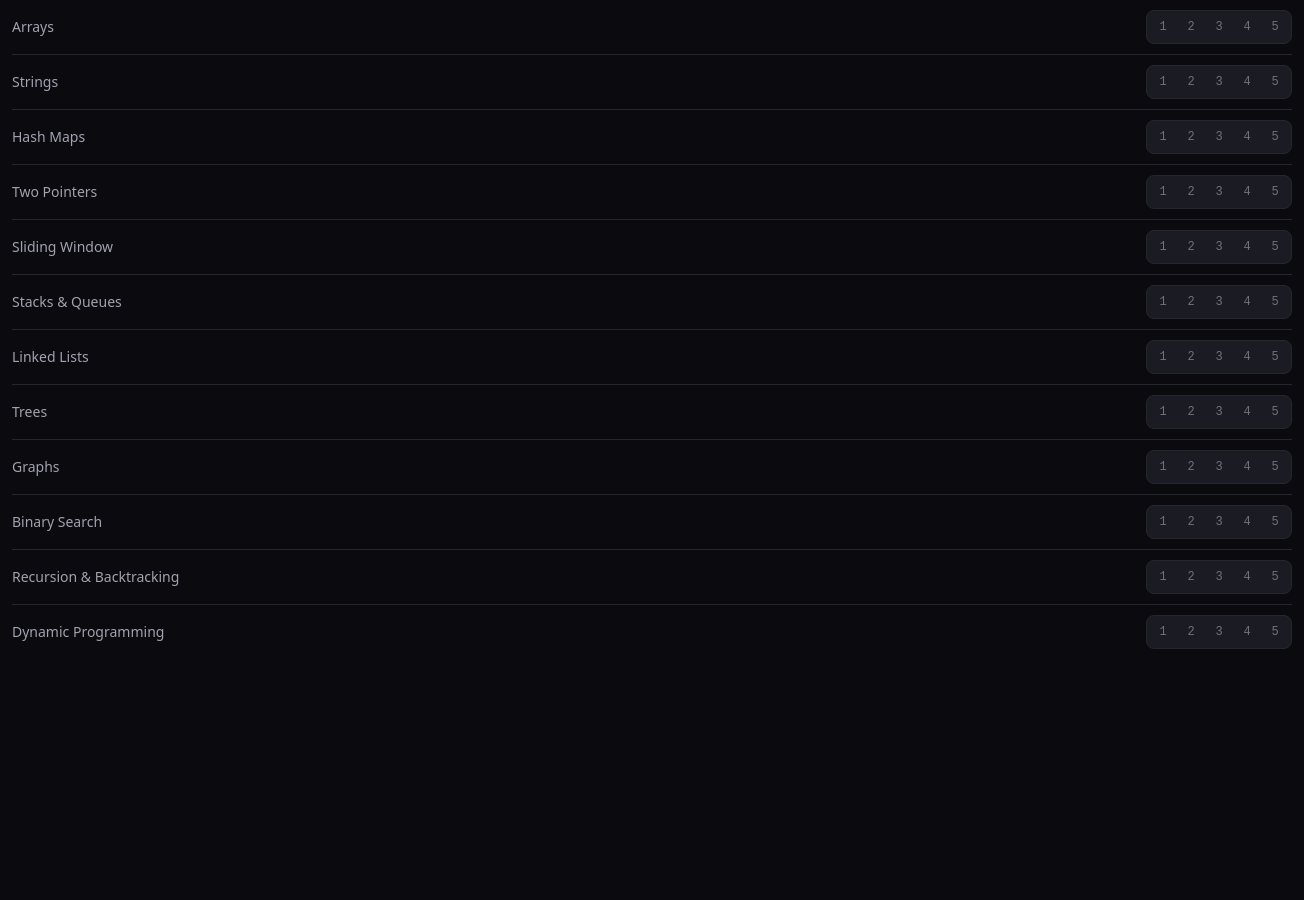
Test: ConfidenceTracker › posts a new rating and notifies the parent
Expected: the text "Graphs" is shown, [12, 457, 60, 477]
Click the radio button named "Rate Graphs as 3 of 5" at (1219, 467), box [1205, 453, 1233, 481]
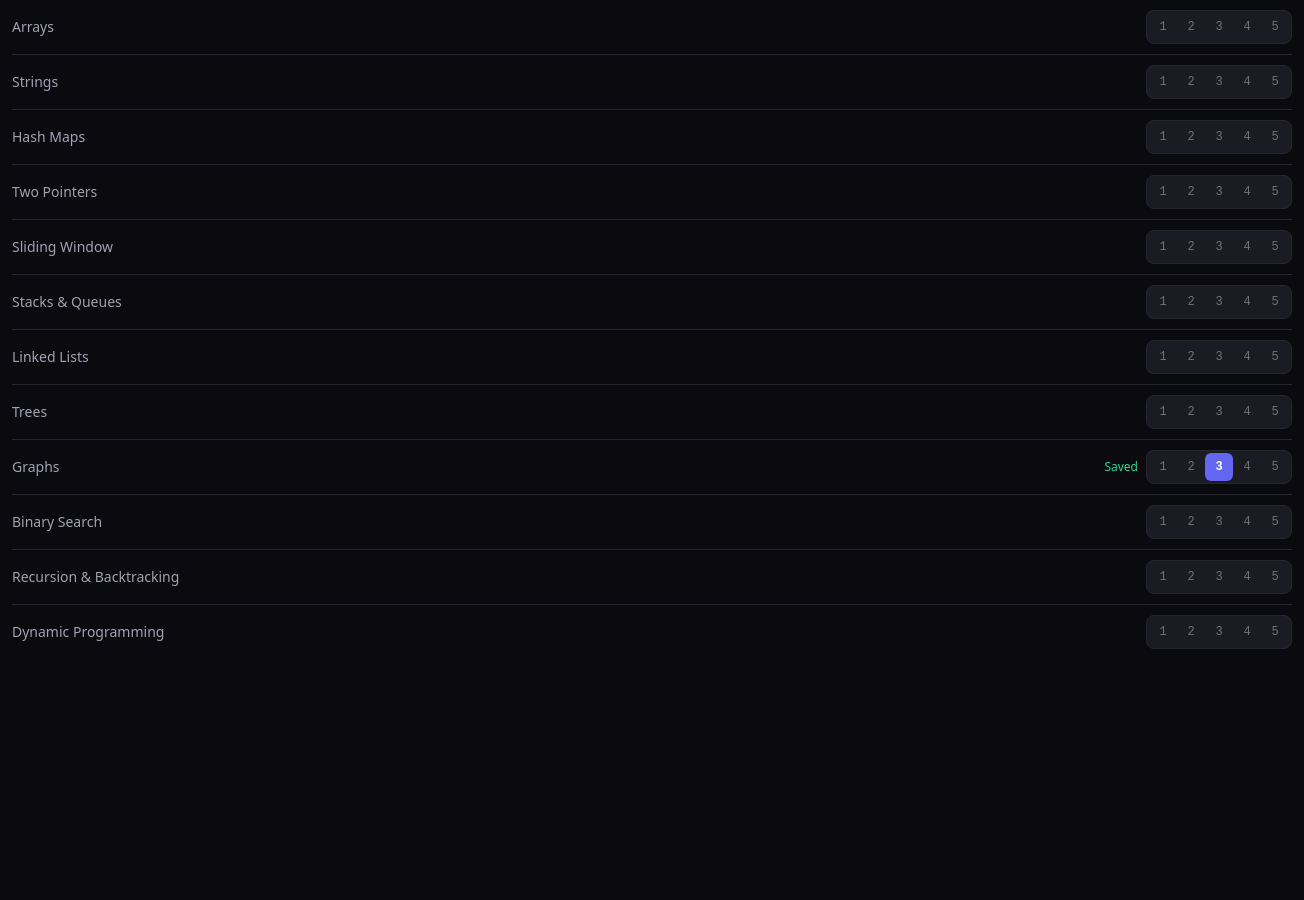
Expected: the radio button named "Rate Graphs as 3 of 5" is checked, [1205, 453, 1233, 481]
Expected: the text "Saved" is shown, [1104, 459, 1138, 475]
